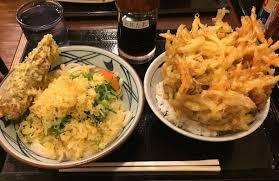kakiage: (170, 24, 277, 123)
